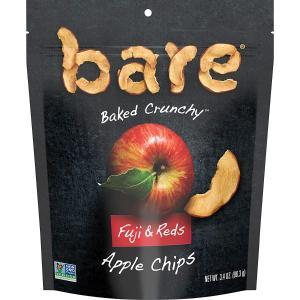apple: (99, 124, 199, 218)
